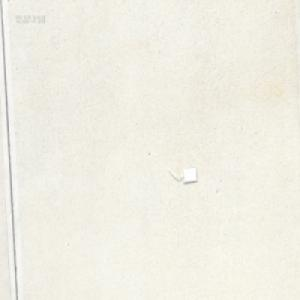LuggageTag: (168, 166, 197, 183)
